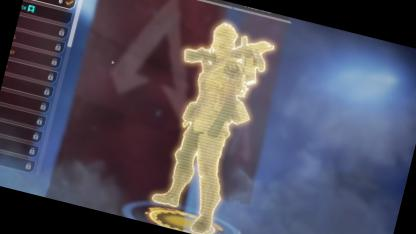Target: (152, 10, 276, 206)
